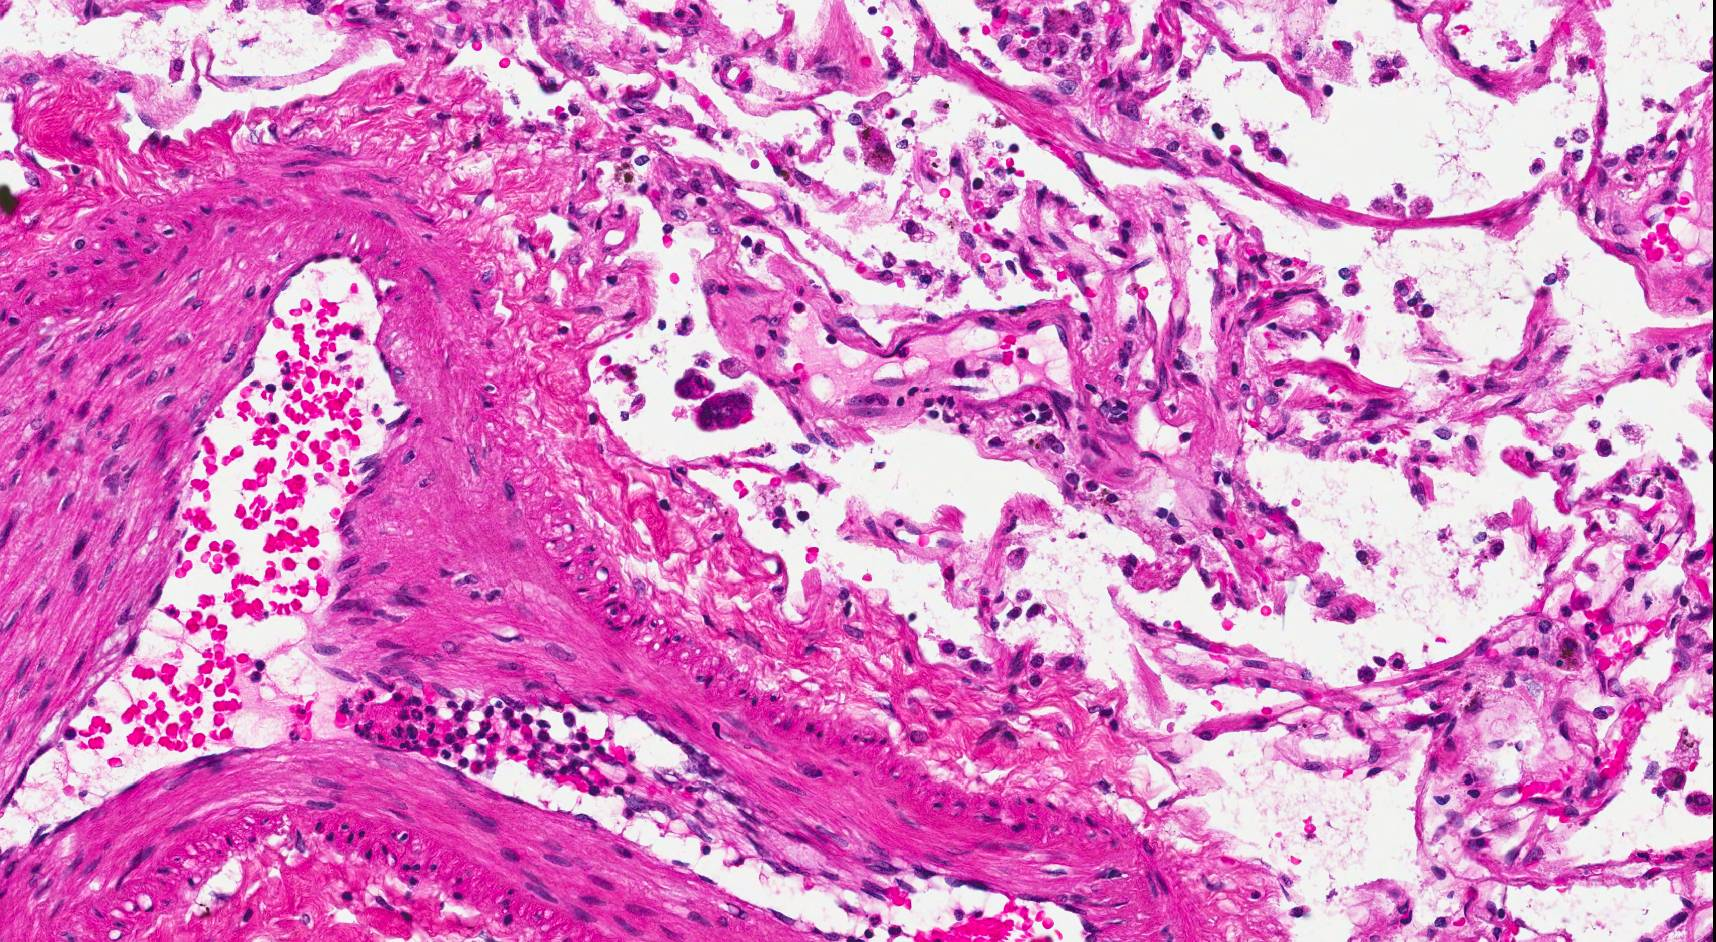stas: (694, 393, 758, 431), (669, 368, 717, 403)
